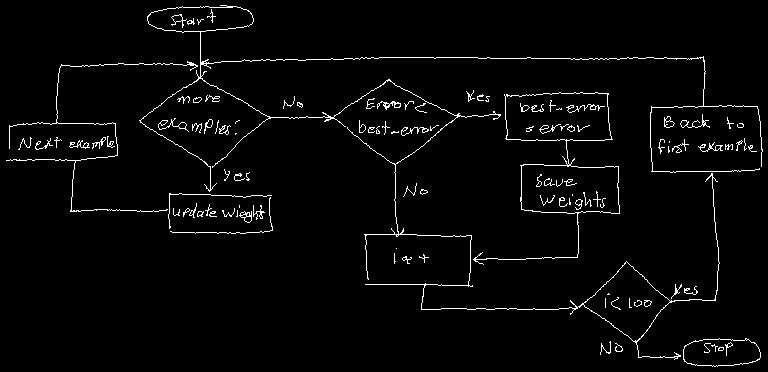arrow: (201, 56, 705, 106), (56, 61, 197, 123), (670, 173, 719, 301), (473, 212, 578, 264), (70, 160, 167, 211), (421, 283, 577, 314), (391, 164, 403, 236), (635, 340, 680, 359), (269, 112, 331, 121), (196, 32, 206, 78), (457, 111, 500, 119), (562, 139, 574, 166), (204, 166, 216, 191)
decision: (139, 77, 270, 167), (331, 79, 459, 164), (578, 261, 671, 342)
process: (650, 105, 762, 172), (364, 234, 472, 286), (504, 92, 612, 140), (520, 164, 619, 213), (6, 122, 117, 160), (168, 193, 272, 233)
terminator: (147, 5, 253, 32), (683, 338, 760, 366)
text: (329, 116, 712, 294), (658, 114, 756, 153), (158, 95, 239, 134), (359, 98, 438, 135), (520, 100, 604, 133), (536, 174, 605, 209), (173, 203, 264, 222), (18, 136, 114, 149), (171, 9, 215, 27), (605, 293, 651, 309), (394, 248, 428, 263), (671, 284, 697, 298), (704, 342, 732, 355), (403, 183, 427, 196), (600, 341, 622, 354), (224, 169, 249, 180), (466, 90, 489, 101), (283, 96, 302, 108), (675, 286, 679, 293)
